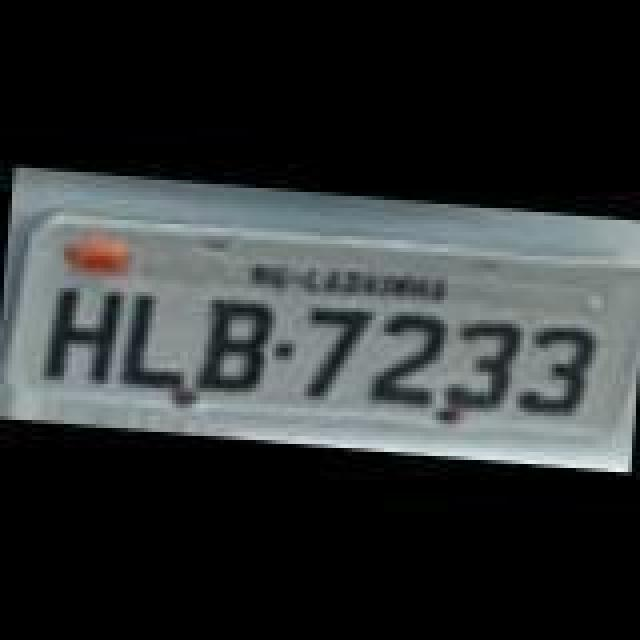2: (366, 310, 450, 410)
3: (520, 318, 600, 418), (444, 318, 524, 418)
7: (294, 298, 370, 406)
B: (192, 292, 272, 396)
H: (42, 276, 126, 388)
L: (120, 282, 200, 390)
